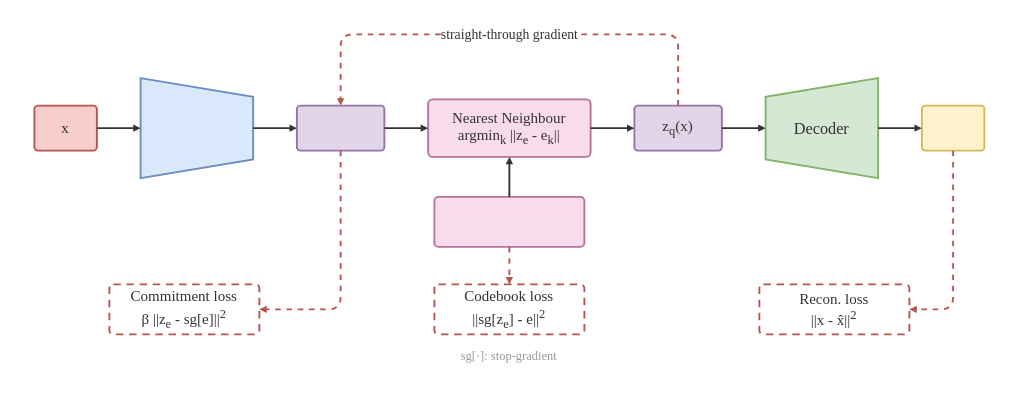
The diagram is 1018 pixels wide and 398 high, and some of its shapes have lost their labels. Here are the shapes that lost their labels. From the top down, the centre of each, then its label:
At (196,127): "Encoder".
At (340,127): "z e (x)".
At (952,127): "x̂".
At (509,221): "Codebook e 1 , ..., e K ∈ R D".
